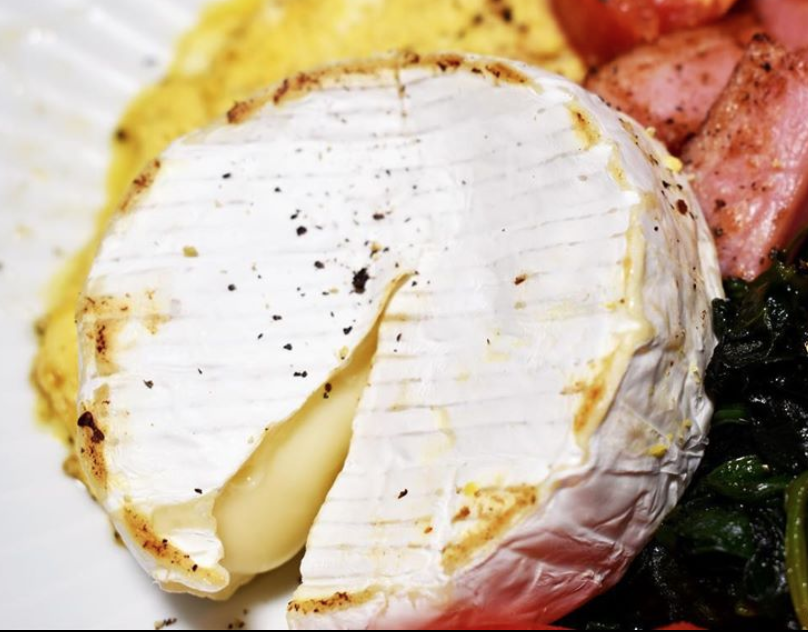camembert: (72, 48, 726, 632)
